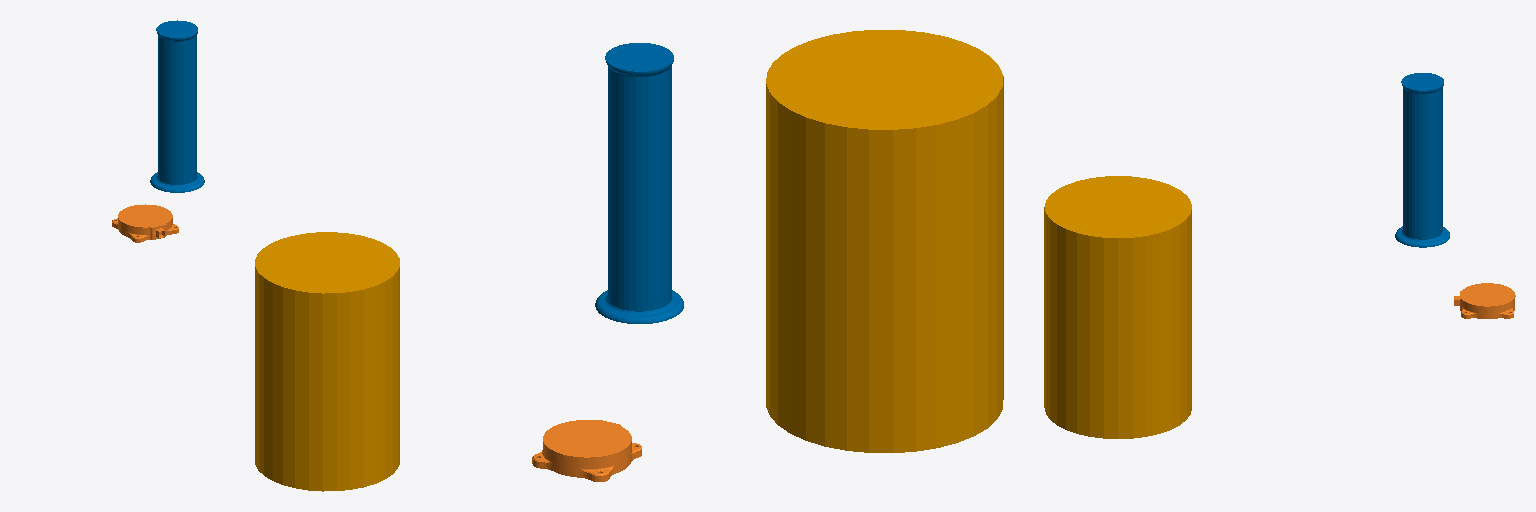
robot.urdf — origins:
<?xml version="1.0"?>
<robot name="origins">

<material name="Metall - 1600F (heiß)">
    <color rgba="1 0.561 0.184 1" />
  </material>

  <link name="base_link">
    <visual>
      <geometry>
        <cylinder length="0.6" radius="0.2"/>
      </geometry>
    </visual>
  </link>

  <link name="U10_Base">
    <visual>
     <origin xyz="0 0 0" rpy="0 0 0" />
      <geometry>  
            <mesh filename="../12345/Base.stl"/>
 
      </geometry> 
         <material name="Metall - 1600F (heiß)" />
    </visual>
  </link>

<link name="First_Gelenk">
    <visual>
     <origin xyz="0 0 0" rpy="0 0 0" />
      <geometry>  
            <mesh filename="../12345/UR10_Size4_Joint_meter.stl"/>
 
      </geometry> 
     
    </visual>
  </link>

<link name="Second_Gelenk">
    <visual>
     <origin xyz="0 0 0" rpy="0 0 0" />
      <geometry>  
            <mesh filename="../12345/UR10_Size4_Joint_meter.stl"/>
 
      </geometry> 
         <material name="Metall - 1600F (heiß)" />
    </visual>
  </link>

<link name="Upper_arm">
    <visual>
     <origin xyz="0 0 0" rpy="0 0 0" />
      <geometry>  
            <mesh filename="../12345/UR10_Upper_arm_meter.stl"/> 
      </geometry> 
    </visual>
  </link>


  <joint name="base_to_right_leg" type="fixed">
    <parent link="base_link"/>
    <child link="U10_Base"/>
    <origin xyz="0 1 0"/>
  </joint>

<joint name="first_joint" type="continuous">
         <axis rpy="0 0 0" xyz="0 0 1"/>
    <parent link="U10_Base"/>
    <child link="First_Gelenk"/>
    <origin xyz="0 0 0.128"/>
  </joint>
 
<joint name="second_joint" type="continuous">
         <axis rpy="0 0 0" xyz="0 1 0"/>
    <parent link="First_Gelenk"/>
    <child link="Second_Gelenk"/>
    <origin xyz="0 -0.176 0" rpy="1.571 3.1415 0"/>
  </joint>


<joint name="third_joint" type="continuous">
         <axis rpy="0 0 0" xyz="0 1 0"/>
    <parent link="Second_Gelenk"/>
    <child link="Upper_arm"/>
    <origin xyz="0 -0.086 0" rpy="1.571 0 0"/>
  </joint>
</robot>

--- What the picture shows (computed from the rendered views, not written in the file) ---
3 views of the same robot in one strip: view 1: azimuth 30°, elevation 25°; view 2: azimuth 150°, elevation 25°; view 3: azimuth 270°, elevation 25° (orthographic).
Model origins with 5 links and 4 joints (3 continuous, 1 fixed), rooted at base_link, posed all joints at 0.
Visible links, largest first — view 1: base_link, Upper_arm, U10_Base; view 2: base_link, Upper_arm, U10_Base; view 3: base_link, Upper_arm, U10_Base.
Link boxes in pixels (bbox=[...]): base_link: bbox=[255, 232, 399, 491]; Upper_arm: bbox=[150, 20, 204, 192]; U10_Base: bbox=[112, 204, 178, 242]; base_link: bbox=[766, 30, 1003, 452]; Upper_arm: bbox=[595, 43, 683, 323]; U10_Base: bbox=[532, 420, 641, 481]; base_link: bbox=[1044, 176, 1191, 438]; Upper_arm: bbox=[1395, 73, 1449, 247]; U10_Base: bbox=[1454, 283, 1515, 318].
Bounding box of the posed robot: 0.4 × 1.28 × 0.9746 m (x, y, z).
2 mesh visuals loaded from 3 distinct referenced files (2 ASCII STL); not drawn: 2 (reference not matched to a file when rendering).
